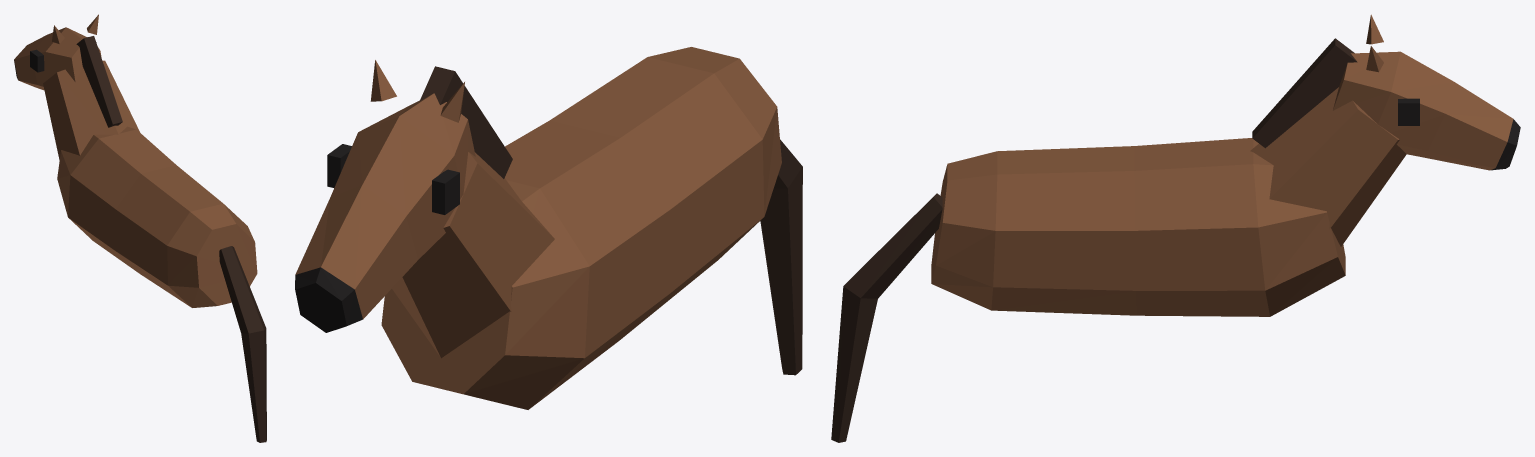
Rendered from animal_horse.obj.
The picture shows the model from 3 angles, left to right: view 1: azimuth 30°, elevation 25°; view 2: azimuth 150°, elevation 25°; view 3: azimuth 270°, elevation 25°; orthographic projection. The views are drawn at different scales.
Parts seen in each view (by area): view 1: animal_horse; view 2: animal_horse; view 3: animal_horse.
Boxes of the visible parts, box(x1,y1,x2,y2) form: animal_horse: box(14, 14, 266, 442); animal_horse: box(295, 47, 802, 409); animal_horse: box(831, 14, 1520, 442).
Size of the model in its own units: 0.4748 by 1.43 by 2.17.
